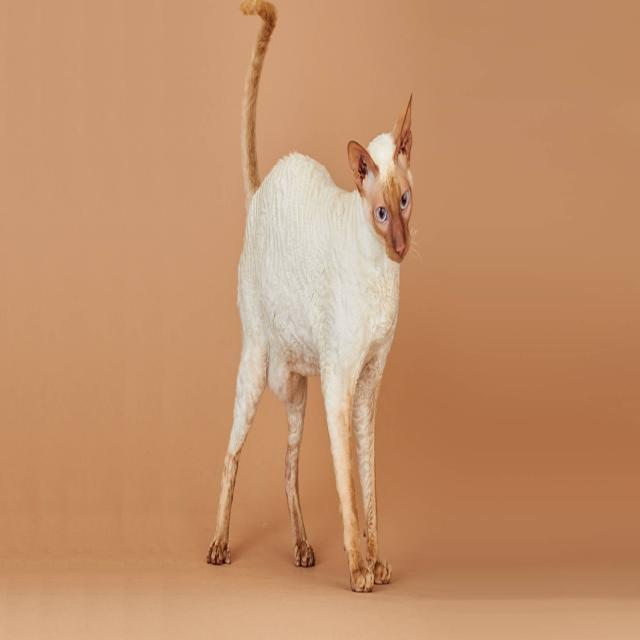Cornish Rex: (204, 0, 417, 600)
